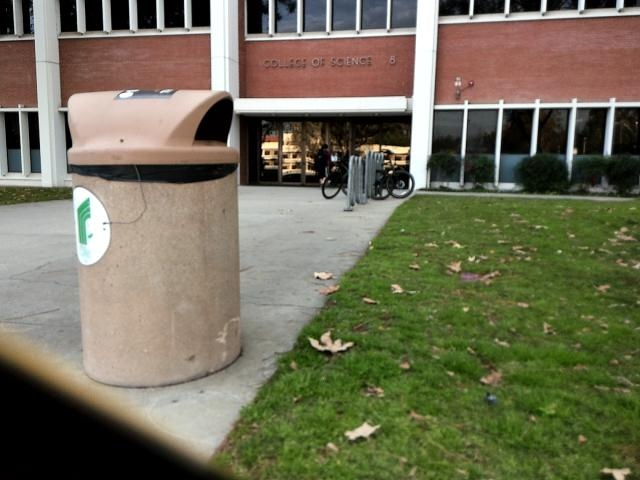trashcan: (46, 79, 256, 375)
